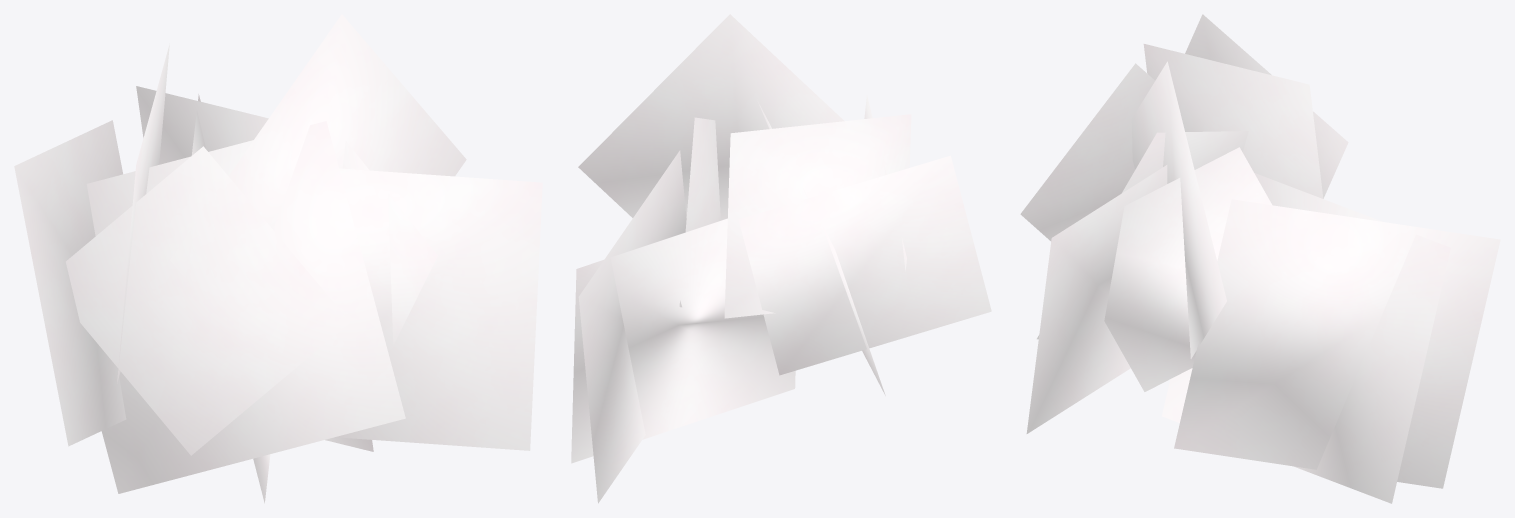
Rendered from citadel_fx_steam.glb.
3 renders of one model, left to right at view 1: azimuth 30°, elevation 25°; view 2: azimuth 150°, elevation 25°; view 3: azimuth 270°, elevation 25°, orthographic. The views are drawn at different scales.
Parts seen in each view (by area): view 1: fx_steam_steam_card_cards; view 2: fx_steam_steam_card_cards; view 3: fx_steam_steam_card_cards.
Part boxes in pixels (<box>): fx_steam_steam_card_cards: <box>14,14,542,503</box>; fx_steam_steam_card_cards: <box>571,14,991,503</box>; fx_steam_steam_card_cards: <box>1020,14,1500,503</box>.
Size of the model in its own units: 1.32 by 1.39 by 1.42.
1 material, 1 textured.
